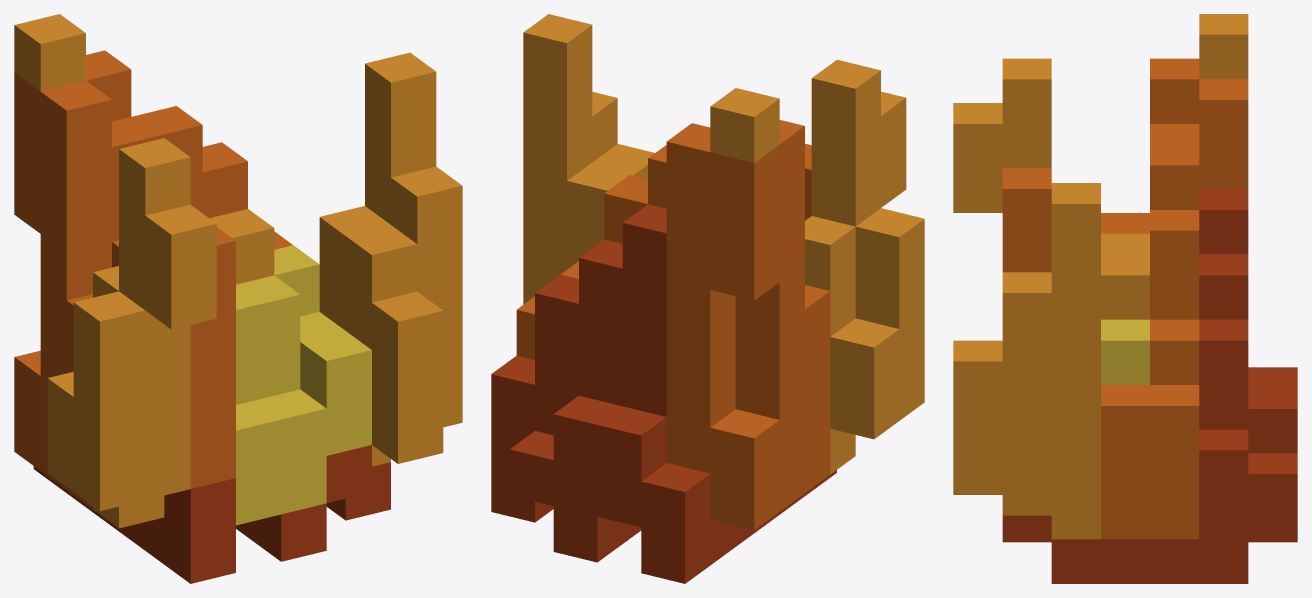
The model's file is flame_09.glb.
3 renders of one model, left to right at view 1: azimuth 30°, elevation 25°; view 2: azimuth 150°, elevation 25°; view 3: azimuth 270°, elevation 25°, orthographic. The views are drawn at different scales.
Parts seen in each view (by area): view 1: flame_09; view 2: flame_09; view 3: flame_09.
Part boxes in pixels (left/top/right/bottom): flame_09: left=14, top=14, right=462, bottom=583; flame_09: left=491, top=14, right=924, bottom=583; flame_09: left=953, top=14, right=1297, bottom=583.
Size of the model in its own units: 1 by 1.25 by 0.875.
